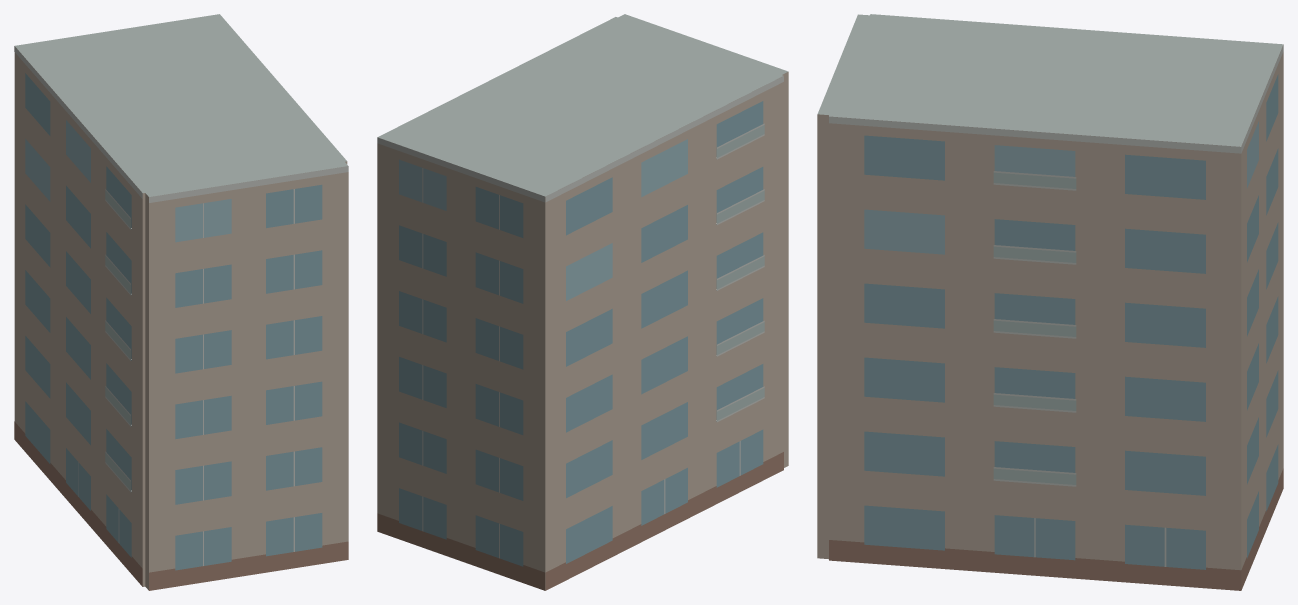
File: survey-upis-33024733.glb
3 views of the same model, side by side, from view 1: azimuth 30°, elevation 25°; view 2: azimuth 150°, elevation 25°; view 3: azimuth 270°, elevation 25° (orthographic). The views are drawn at different scales.
Visible parts, largest first — view 1: survey-upis-33024733.tmp; view 2: survey-upis-33024733.tmp; view 3: survey-upis-33024733.tmp.
Boxes of the visible parts, <box> form: survey-upis-33024733.tmp: <box>14,14,348,590</box>; survey-upis-33024733.tmp: <box>377,14,788,590</box>; survey-upis-33024733.tmp: <box>817,14,1283,590</box>.
Bounding box in the file's own units: 10.28 × 16 × 15.23.
